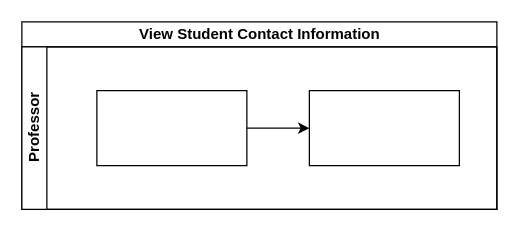
The diagram is 519 pixels wide and 231 high, and some of its shapes have lost their labels. Each missing label, with the centre of its shape:
"1. Select Contact button in the top menu bar." goes at point 171,127.
"2. View a student's name and their email address." goes at point 383,127.
